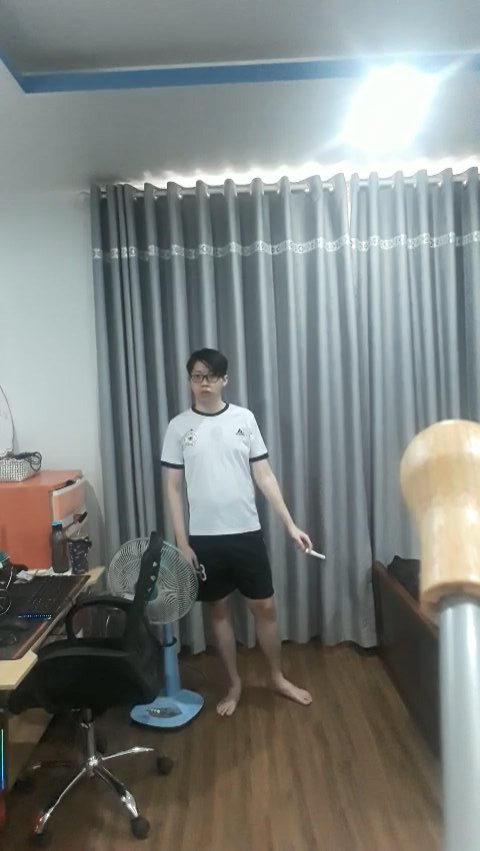cigarette: (306, 548, 327, 561)
person: (151, 340, 327, 729)
